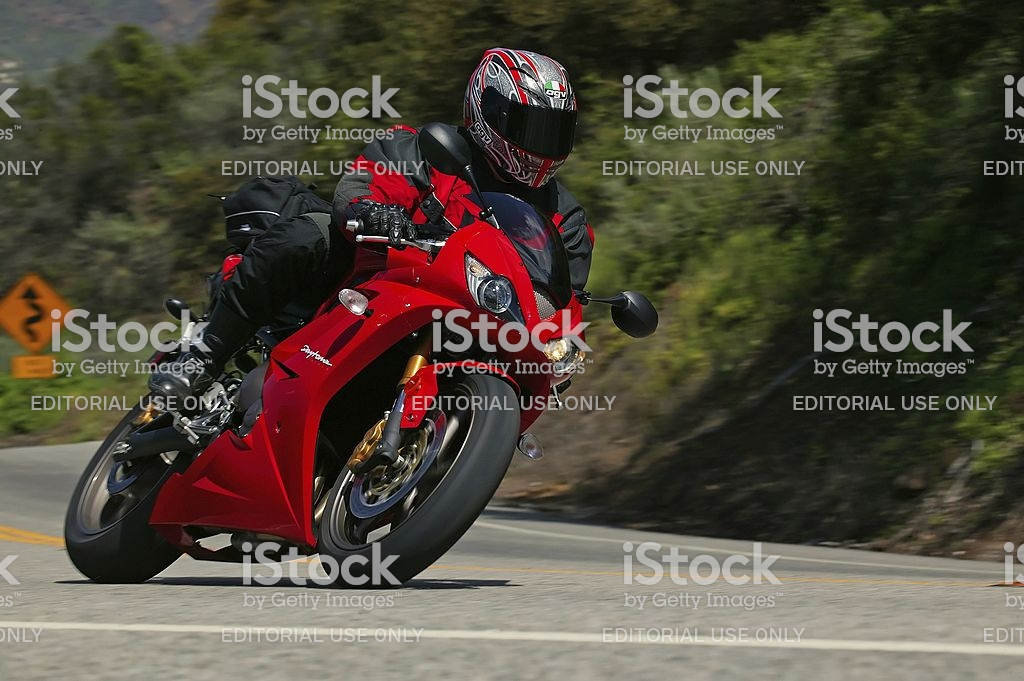helmet: (466, 42, 582, 176)
